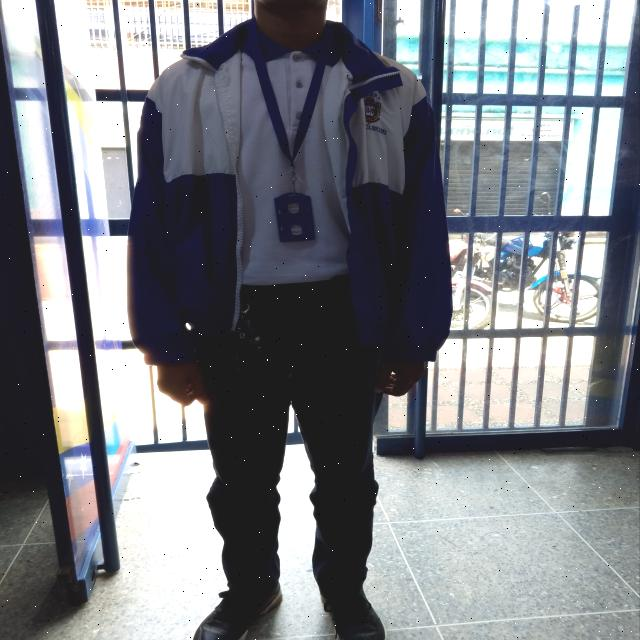carnet: (274, 192, 316, 243)
chaqueta_unefa: (128, 16, 454, 364)
